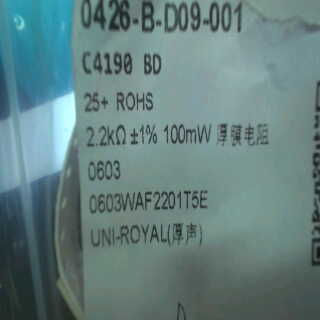2.2kR: (80, 121, 127, 153)
